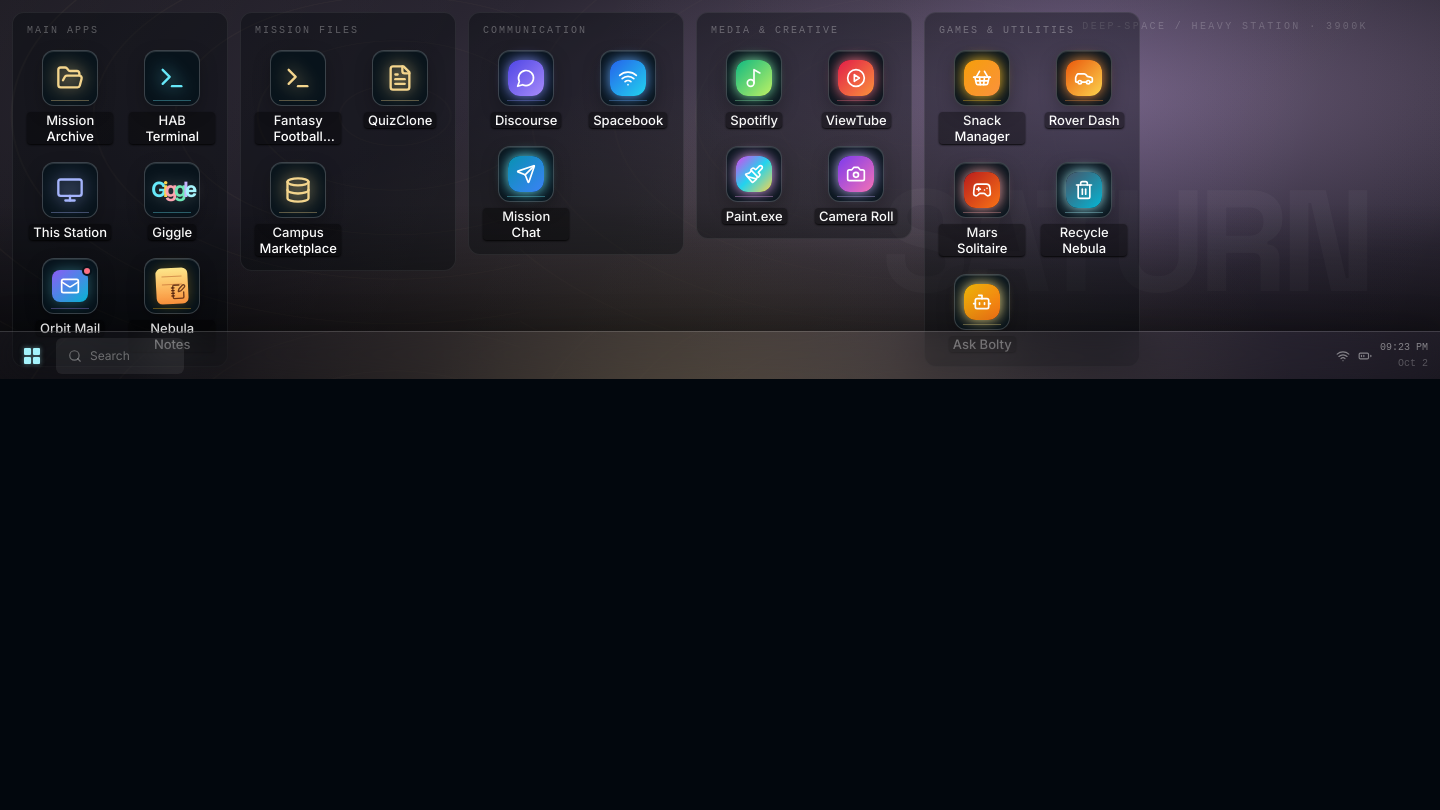
Test: HabitatDesktop planet themes › carries Saturn identity tokens into the wallpaper and system details
This screenshot has width=1440, height=810.
Expected: the element that starts with "SATURN" has style "--planet-accent: #f4d58d", [0,0,1439,379]
Click the button with test id "desktop-system" at (70,201), box [19,154,121,248]
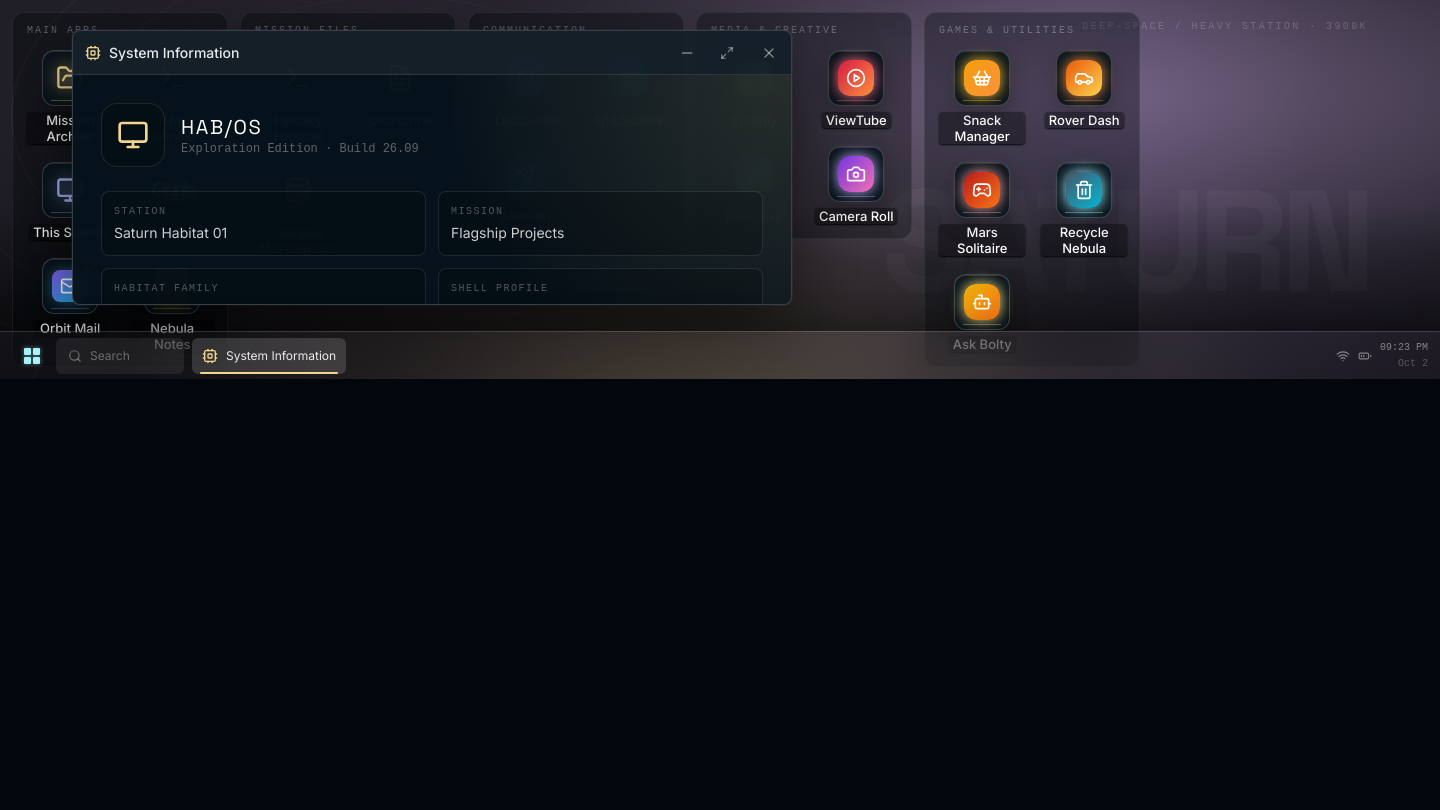
Result: the text "Habitat family" is shown at [114,283,219,294]
